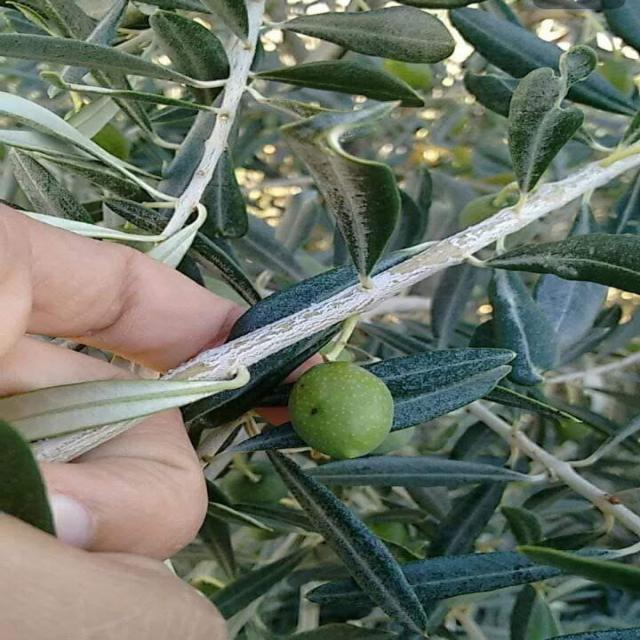Olive Fruit Fly: (289, 360, 393, 459)
